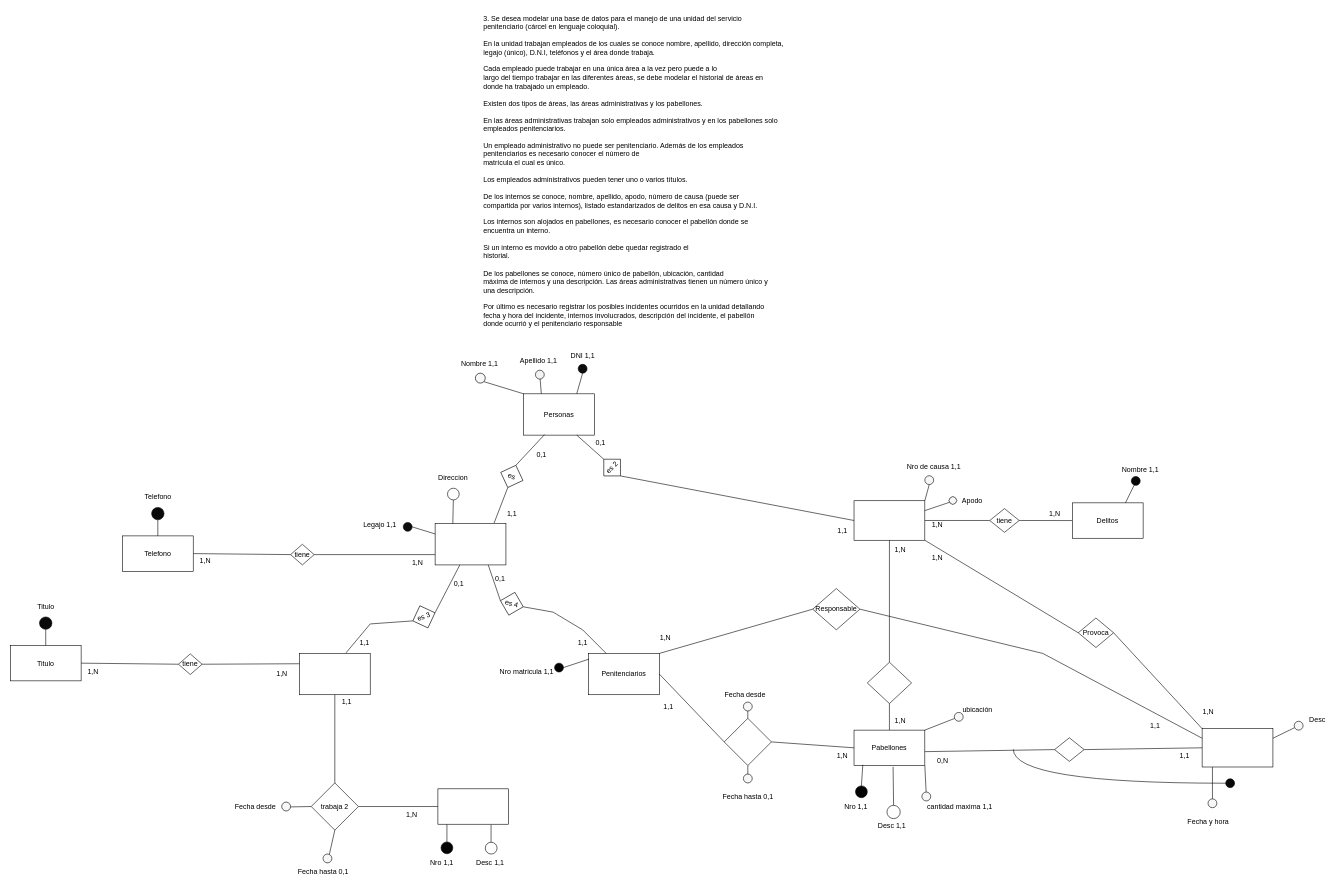
Some shapes in this 1342 by 890 pixel diagram are drawn without their labels. Here are the shapes that lost their labels. From the top down, the centre of each, then its label:
At pixel 889 520: "Internos".
At pixel 470 544: "Empleados".
At pixel 334 674: "Administrativos".
At pixel 889 683: "aloja".
At pixel 747 742: "trabaja".
At pixel 1069 749: "ocurre".
At pixel 1237 747: "Incidentes".
At pixel 473 806: "Areas Administrativas".
